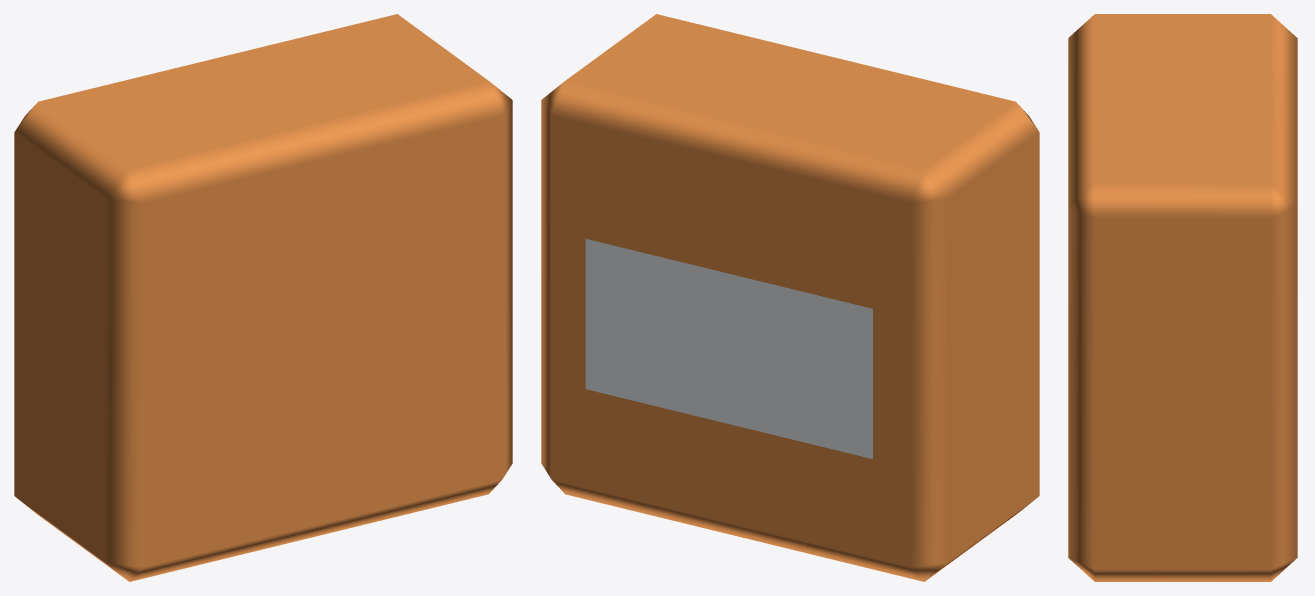
File: CM_Accessory_Backpack_Delivery.fbx
The picture shows the model from 3 angles, left to right: view 1: azimuth 30°, elevation 25°; view 2: azimuth 150°, elevation 25°; view 3: azimuth 270°, elevation 25°; orthographic projection. The views are drawn at different scales.
Visible parts, largest first — view 1: Handle; view 2: Handle; view 3: Handle.
Part boxes in pixels (x1=…): Handle: x1=14, y1=14, x2=512, y2=581; Handle: x1=541, y1=14, x2=1039, y2=581; Handle: x1=1068, y1=14, x2=1297, y2=581.
Bounding box in the file's own units: 1.7 × 0.872 × 1.65.
Materials: 1 (1 with a texture image).
